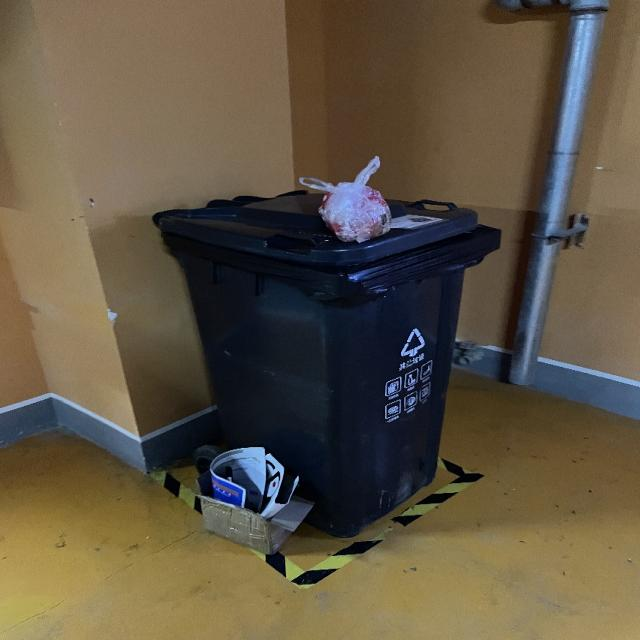garbage: (196, 442, 313, 554)
overflow: (156, 156, 499, 537)
